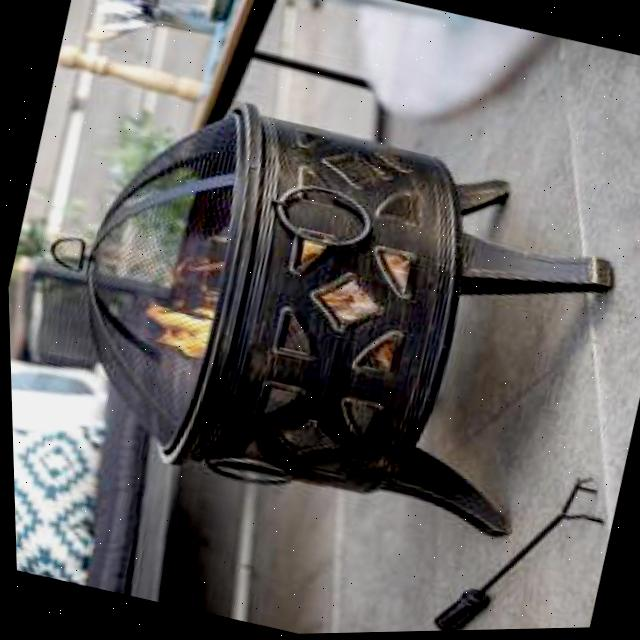Fire: (123, 287, 229, 371)
